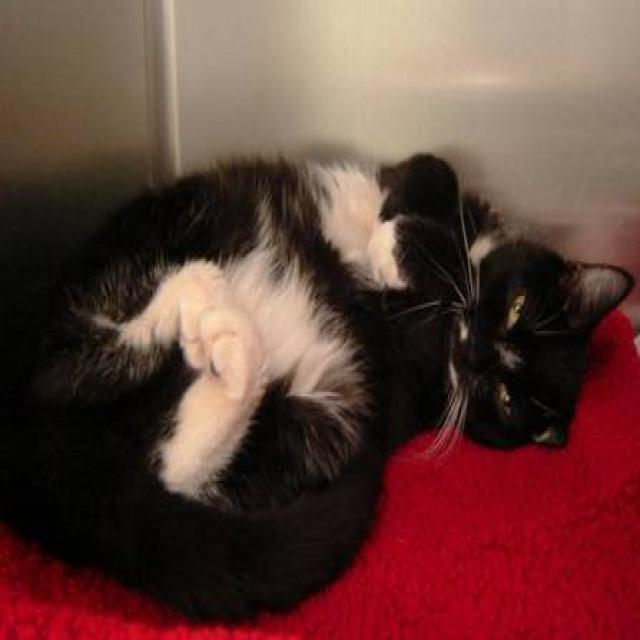cat: (0, 148, 634, 622)
